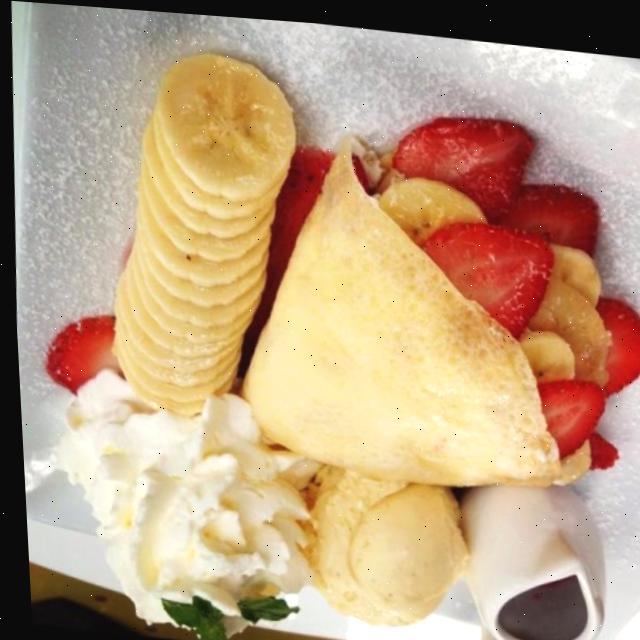蛋糕甜品: (55, 63, 640, 606)
